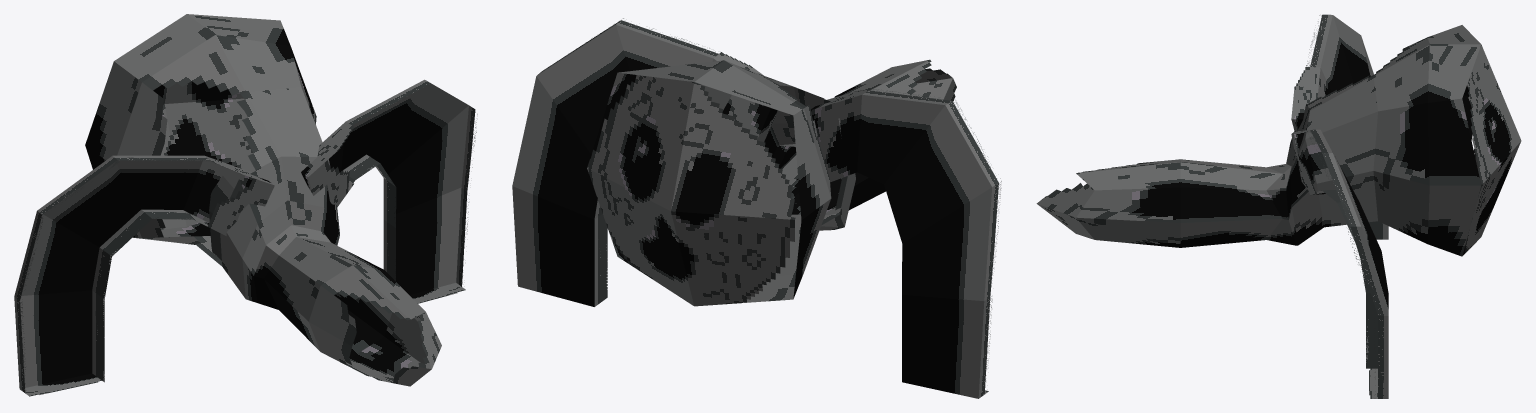
Rendered from Monster.fbx.
The picture shows the model from 3 angles, left to right: view 1: azimuth 30°, elevation 25°; view 2: azimuth 150°, elevation 25°; view 3: azimuth 270°, elevation 25°; orthographic projection. The views are drawn at different scales.
Visible parts, largest first — view 1: Cube.001; view 2: Cube.001; view 3: Cube.001.
Boxes of the visible parts, x1,y1,x2,y2 form: Cube.001: (14,14,477,396); Cube.001: (512,18,1001,398); Cube.001: (1036,14,1521,398).
Size of the model in its own units: 257 by 157 by 266.
